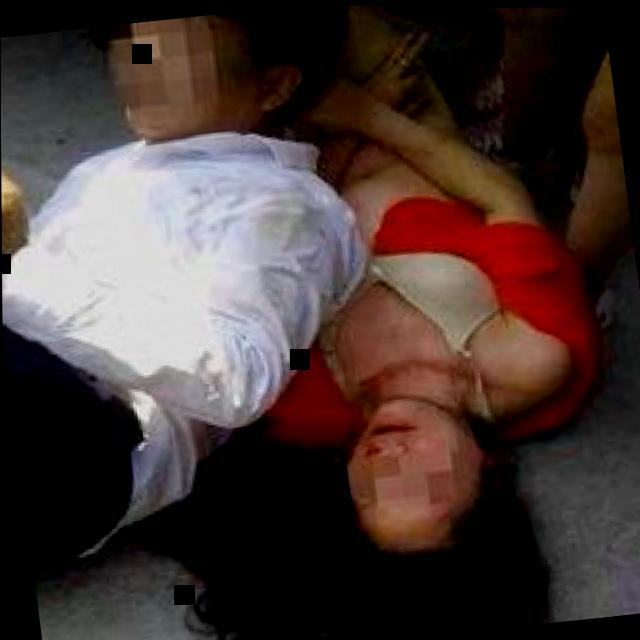Fall-Detected: (215, 3, 640, 640)
